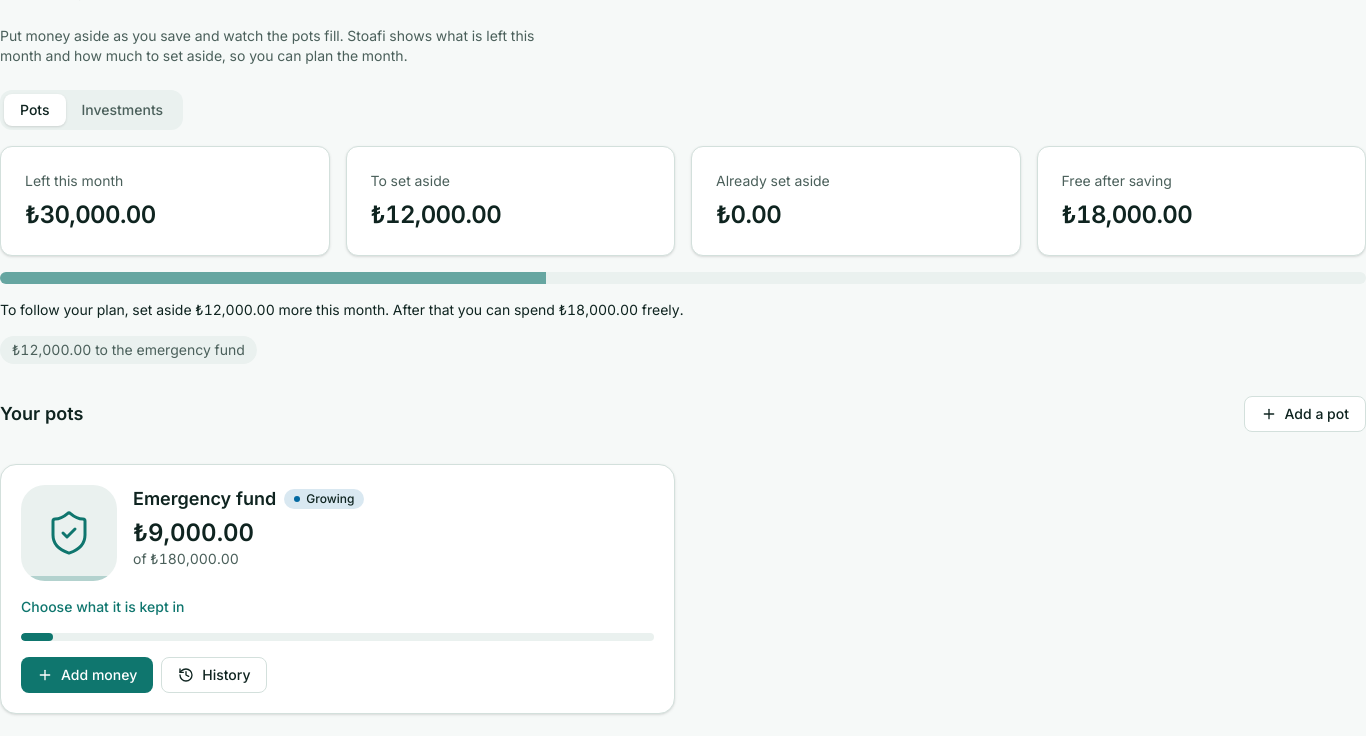
Savings screen basket ticks › ticking a slice notes it for the month and records the purchase in its only holding
Press the mouse on the tab "Investments" at (122, 110), box [66,94,179,126]
(page scrolled)
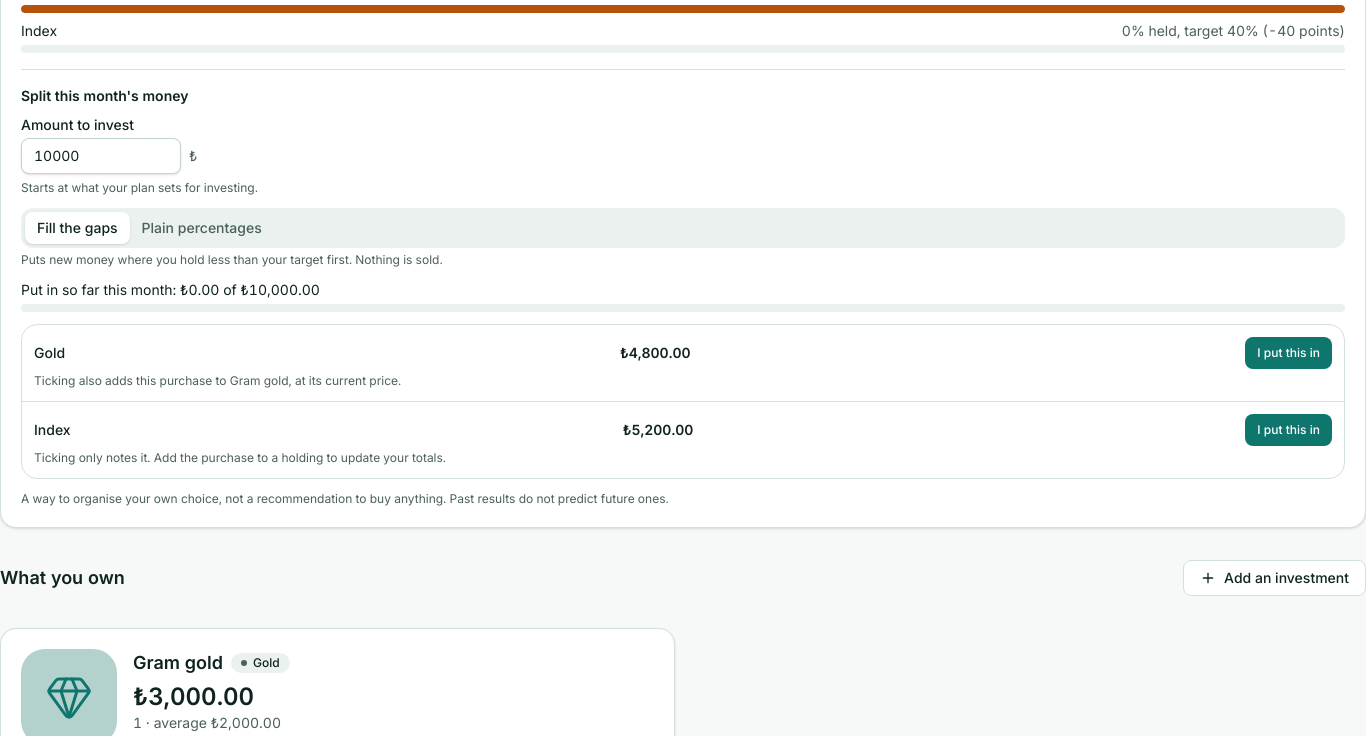
Click the button with aria-label "Mark Gold as invested".
click(1289, 353)  # box [1245,337,1332,369]
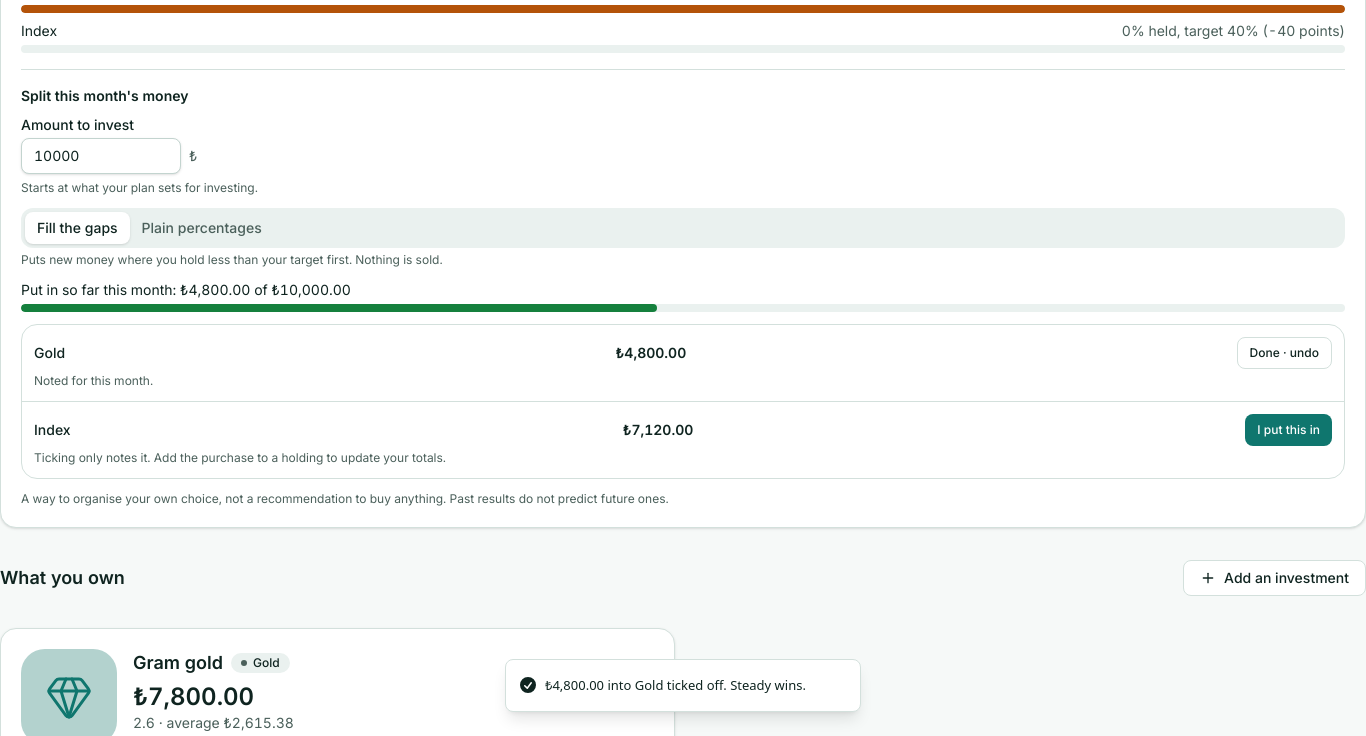
Check: the text "₺4,800.00 into Gold ticked off. Steady wins." is shown, box [545,676,806,695]
